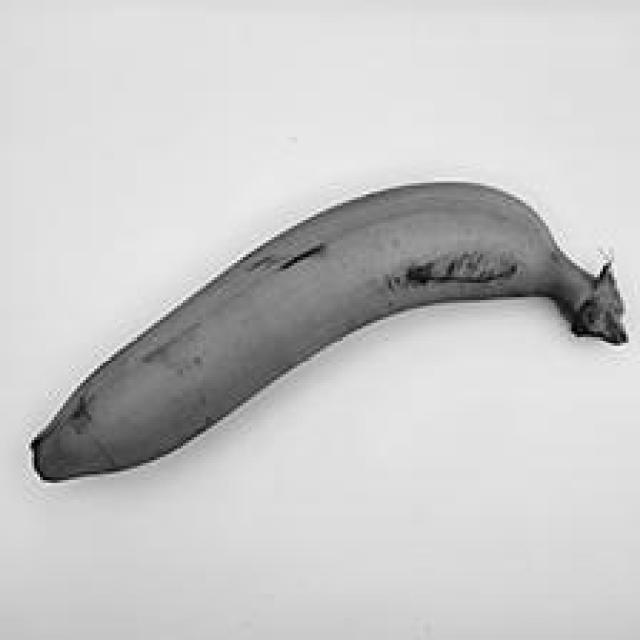Raw: (12, 151, 634, 507)
